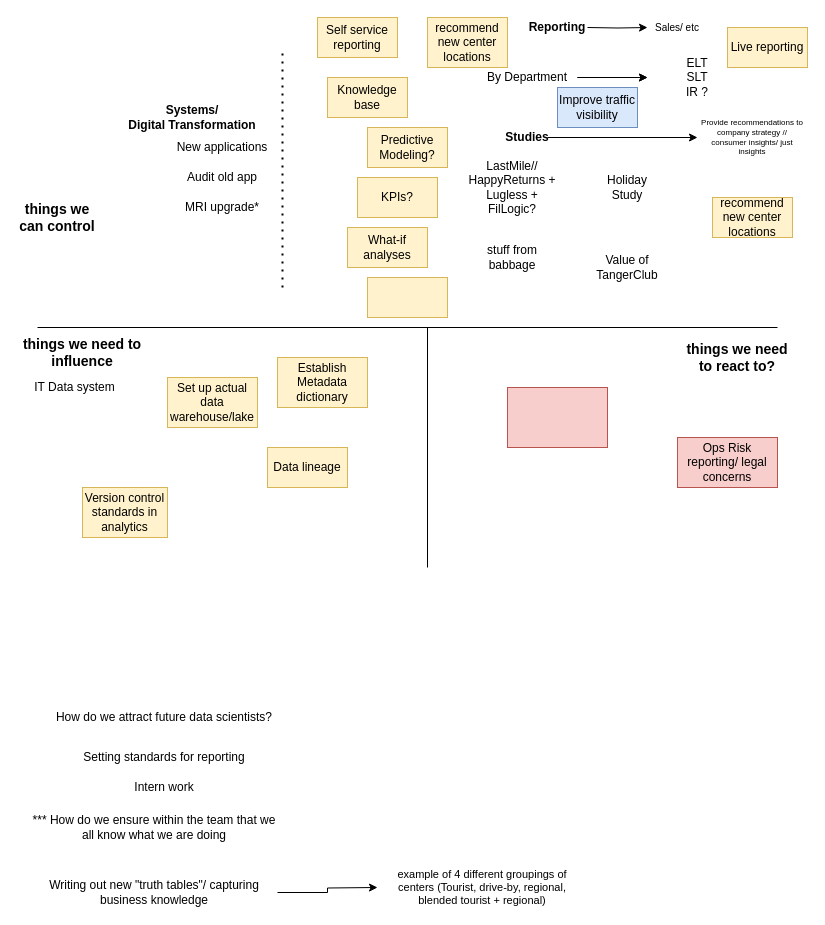
This 825x925 diagram has some shape labels left out. Here are the shapes that lost their labels. From the top down, the centre of each, then its label:
At pixel 407 297: "How do we make money?".
At pixel 557 417: "IR numbers reporting (what's reported to the street)".
